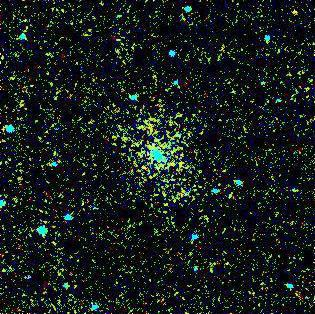star: (277, 1, 307, 31)
